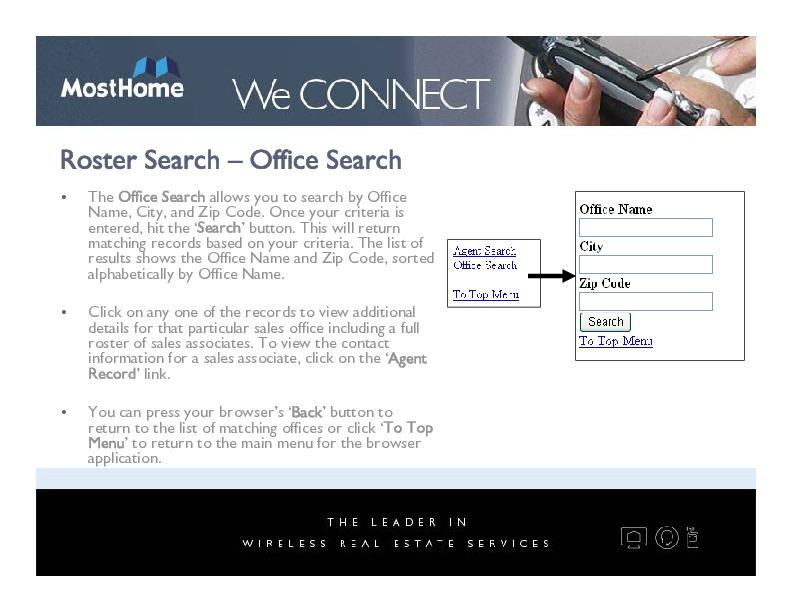paragraph: (56, 187, 792, 469)
subtitle: (225, 493, 593, 564)
title: (57, 50, 502, 122), (52, 138, 406, 182)
